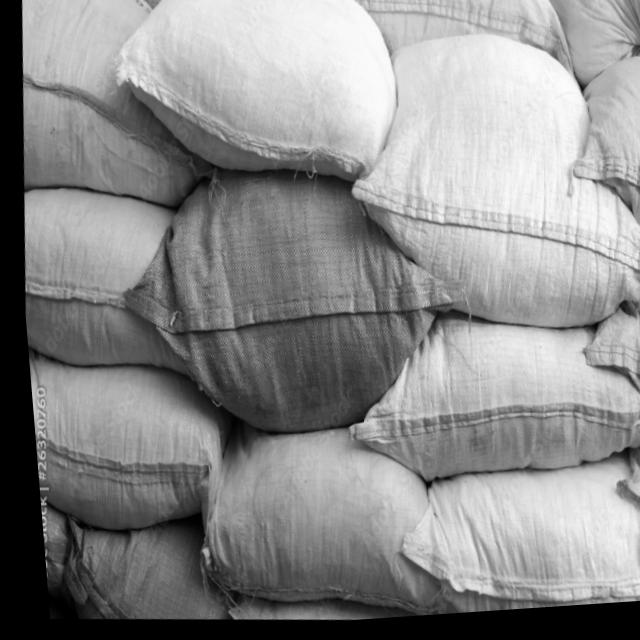sack: (101, 157, 475, 457), (327, 20, 640, 351), (329, 307, 640, 509), (103, 0, 408, 202), (178, 416, 441, 632), (381, 444, 640, 622), (7, 0, 210, 220), (22, 339, 234, 543), (12, 178, 204, 386), (340, 0, 577, 92), (51, 509, 230, 630), (556, 59, 640, 276)
